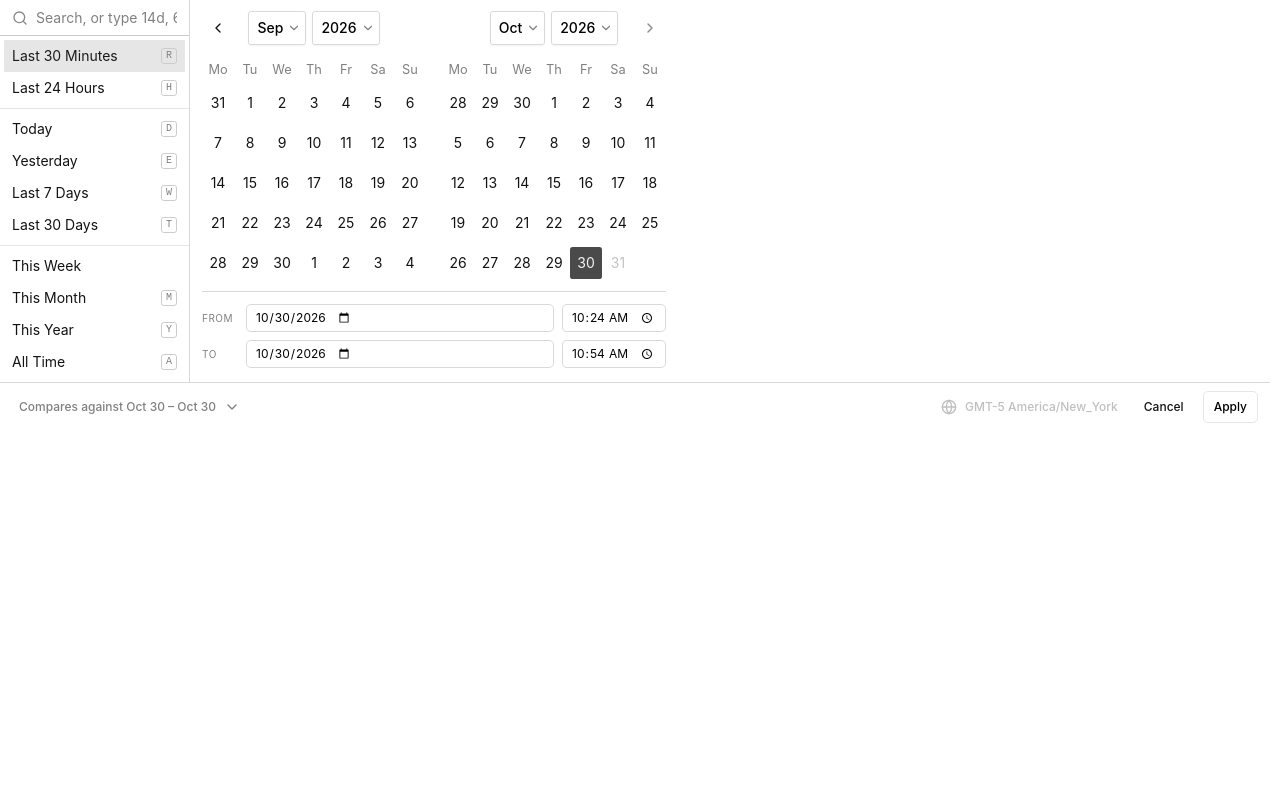
it: RangePanel footer › offers only the comparisons a realtime window can answer
This screenshot has width=1280, height=800.
Click the button "Compares against Oct 30 – Oct 30": (130, 407) [12,395,247,419]
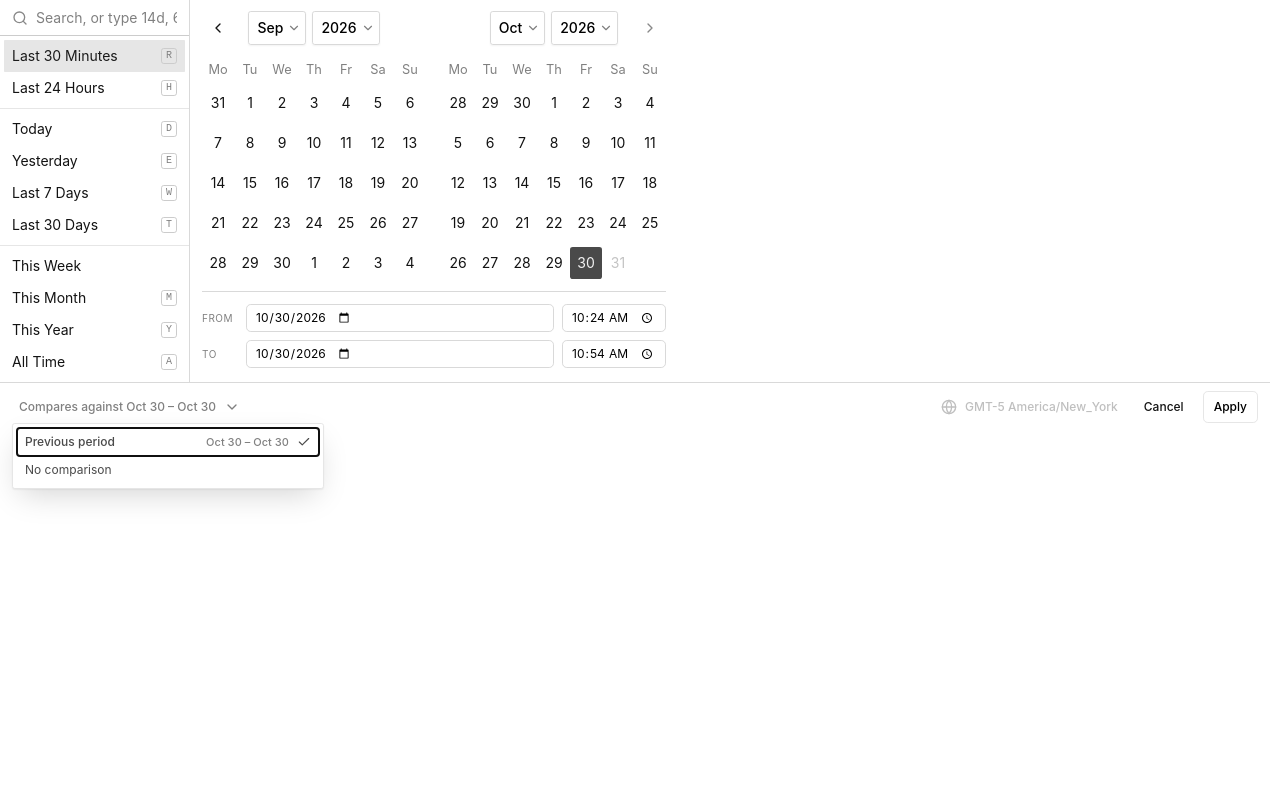
Result: the button "Previous period Oct 30 – Oct 30" is shown at [17,428,319,456]
